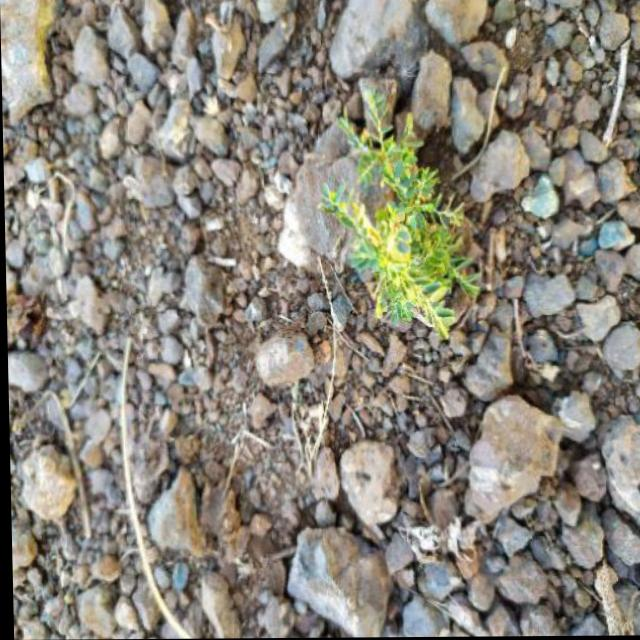weed: (306, 82, 495, 357)
